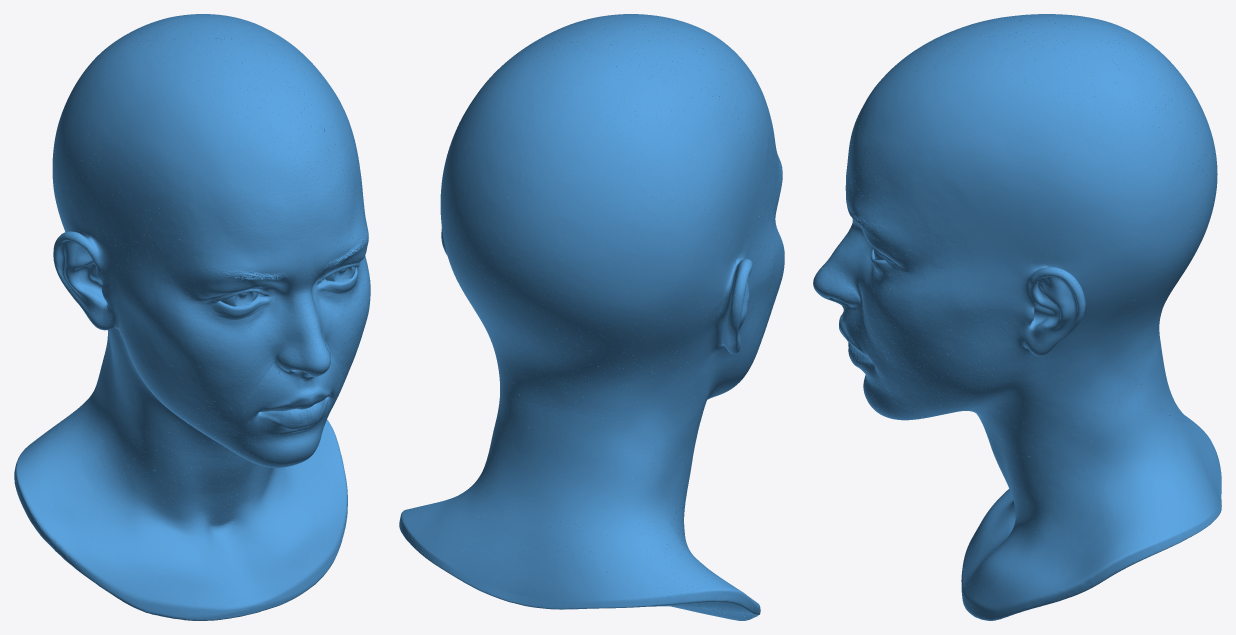
Rendered from 石膏头像_女中青年_06_opt.glb.
3 renders of one model, left to right at view 1: azimuth 30°, elevation 25°; view 2: azimuth 150°, elevation 25°; view 3: azimuth 270°, elevation 25°, orthographic. The views are drawn at different scales.
Visible parts, largest first — view 1: material_0_2, material_0_12, material_0_8, material_0_6, material_0_4, material_0_10, material_0, material_0_14, material_0_16, material_0_18, material_0_17, material_0_19 (+8 smaller); view 2: material_0, material_0_6, material_0_8, material_0_2, material_0_14, material_0_12, material_0_10, material_0_4, material_0_16, material_0_18, material_0_7, material_0_1 (+8 smaller); view 3: material_0_2, material_0_4, material_0, material_0_8, material_0_10, material_0_12, material_0_6, material_0_14, material_0_16, material_0_18, material_0_19, material_0_3 (+8 smaller).
Boxes of the visible parts, x1,y1,x2,y2 form: material_0_2: [47, 17, 369, 605]; material_0_12: [32, 18, 368, 620]; material_0_8: [54, 14, 367, 572]; material_0_6: [18, 28, 366, 619]; material_0_4: [16, 15, 358, 615]; material_0_10: [26, 17, 370, 619]; material_0: [14, 21, 369, 504]; material_0_14: [16, 16, 369, 620]; material_0_16: [15, 14, 370, 620]; material_0_18: [15, 14, 369, 618]; material_0_17: [17, 15, 369, 620]; material_0_19: [19, 15, 368, 619]; material_0: [440, 38, 784, 607]; material_0_6: [399, 83, 782, 619]; material_0_8: [441, 14, 781, 615]; material_0_2: [399, 29, 784, 613]; material_0_14: [401, 14, 782, 620]; material_0_12: [406, 14, 784, 620]; material_0_10: [432, 17, 772, 620]; material_0_4: [421, 14, 780, 612]; material_0_16: [402, 14, 784, 620]; material_0_18: [403, 14, 783, 618]; material_0_7: [410, 104, 777, 615]; material_0_1: [451, 68, 780, 606]; material_0_2: [814, 16, 1220, 589]; material_0_4: [843, 35, 1221, 618]; material_0: [813, 21, 1217, 509]; material_0_8: [820, 14, 1218, 608]; material_0_10: [825, 16, 1213, 619]; material_0_12: [813, 19, 1221, 620]; material_0_6: [818, 41, 1221, 618]; material_0_14: [818, 14, 1221, 620]; material_0_16: [817, 14, 1221, 620]; material_0_18: [821, 14, 1221, 619]; material_0_19: [817, 16, 1217, 618]; material_0_3: [842, 26, 1220, 584].
Bounding box in the file's own units: 0.1745 × 0.3 × 0.1976.
